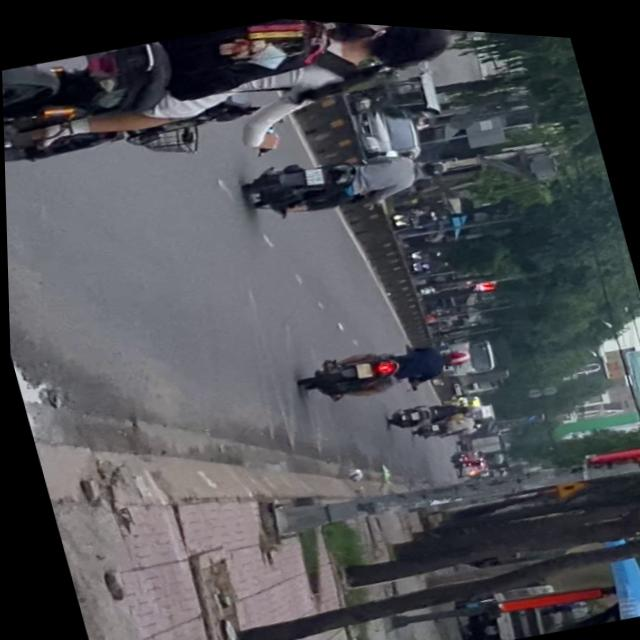helmet: (414, 149, 448, 174), (439, 340, 470, 362)
licenseplate: (0, 0, 478, 221), (235, 119, 454, 233), (287, 315, 476, 415)
motorcyclist: (349, 18, 457, 75)
nohelmet: (302, 161, 324, 182), (352, 356, 371, 374)
